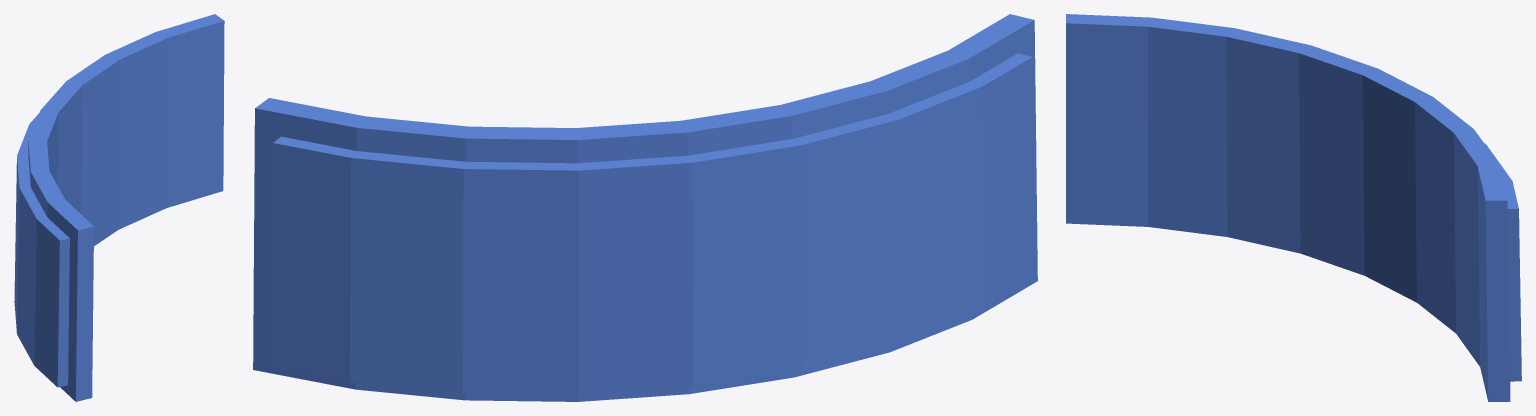
The model's file is TopPlates_Corner_Round_Outer_Collision.fbx.
3 renders of one model, left to right at view 1: azimuth 30°, elevation 25°; view 2: azimuth 150°, elevation 25°; view 3: azimuth 270°, elevation 25°, orthographic. The views are drawn at different scales.
Parts seen in each view (by area): view 1: TopPlates_Corner_Round_Outer_Collision; view 2: TopPlates_Corner_Round_Outer_Collision; view 3: TopPlates_Corner_Round_Outer_Collision.
Part boxes in pixels (x1,y1,x2,y2): TopPlates_Corner_Round_Outer_Collision: [14, 14, 224, 401]; TopPlates_Corner_Round_Outer_Collision: [253, 14, 1037, 401]; TopPlates_Corner_Round_Outer_Collision: [1066, 14, 1521, 401].
Bounding box in the file's own units: 410 × 200 × 410.
